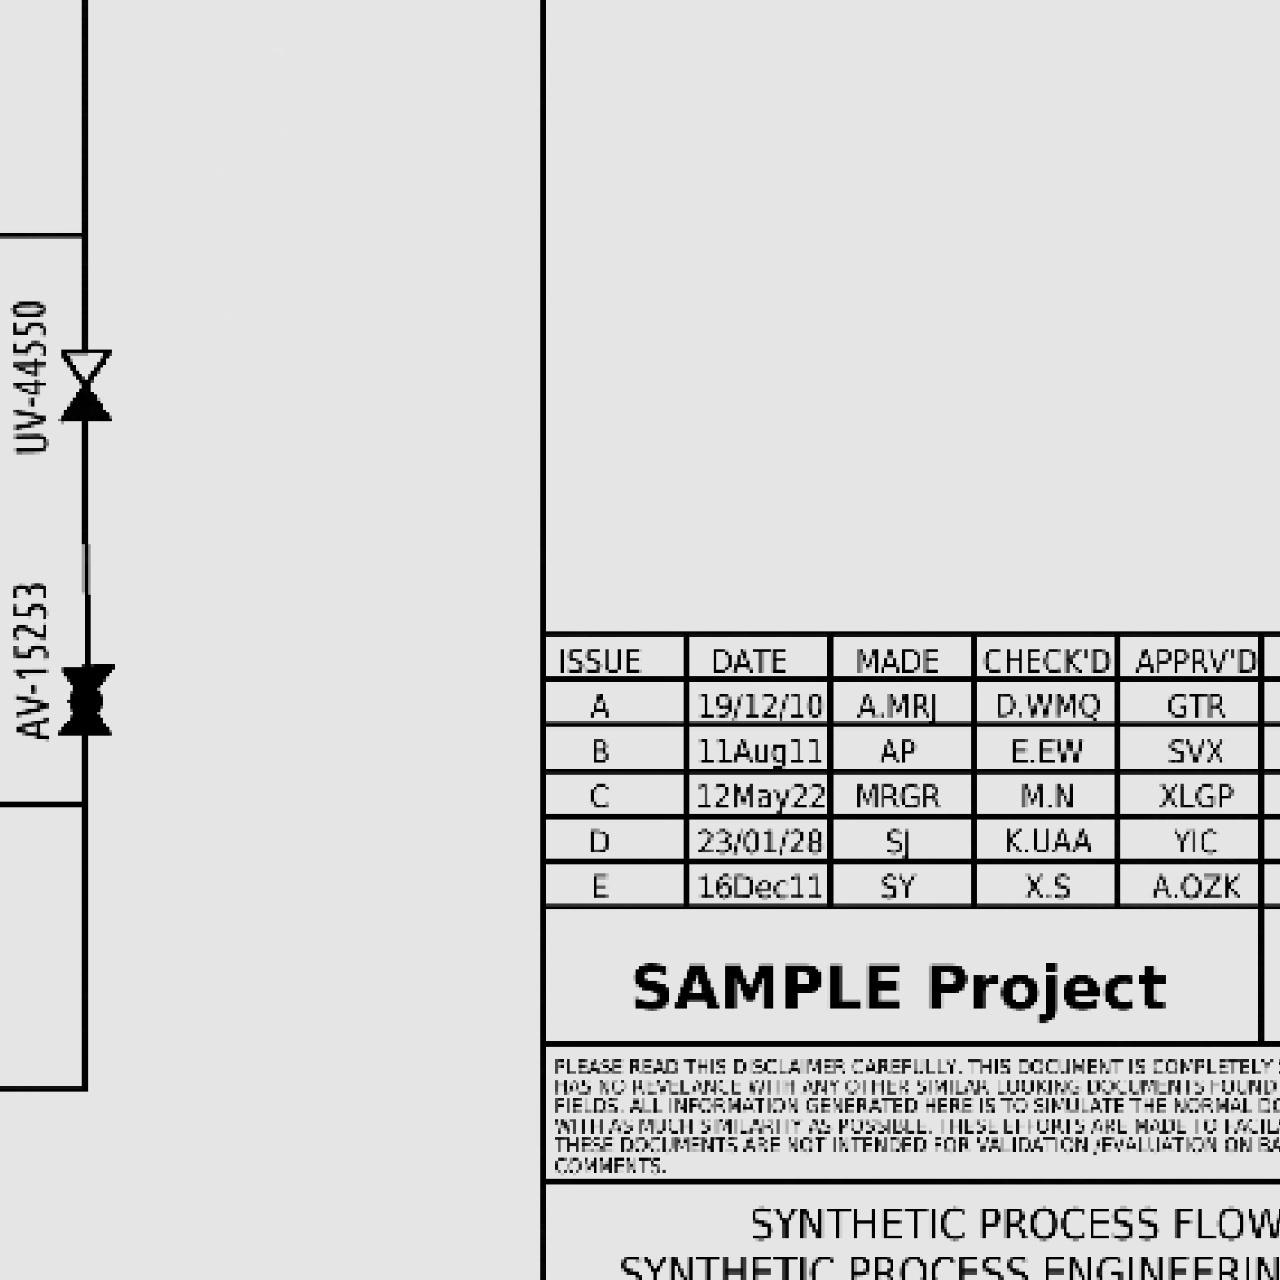Half closed valve: (54, 343, 115, 425)
